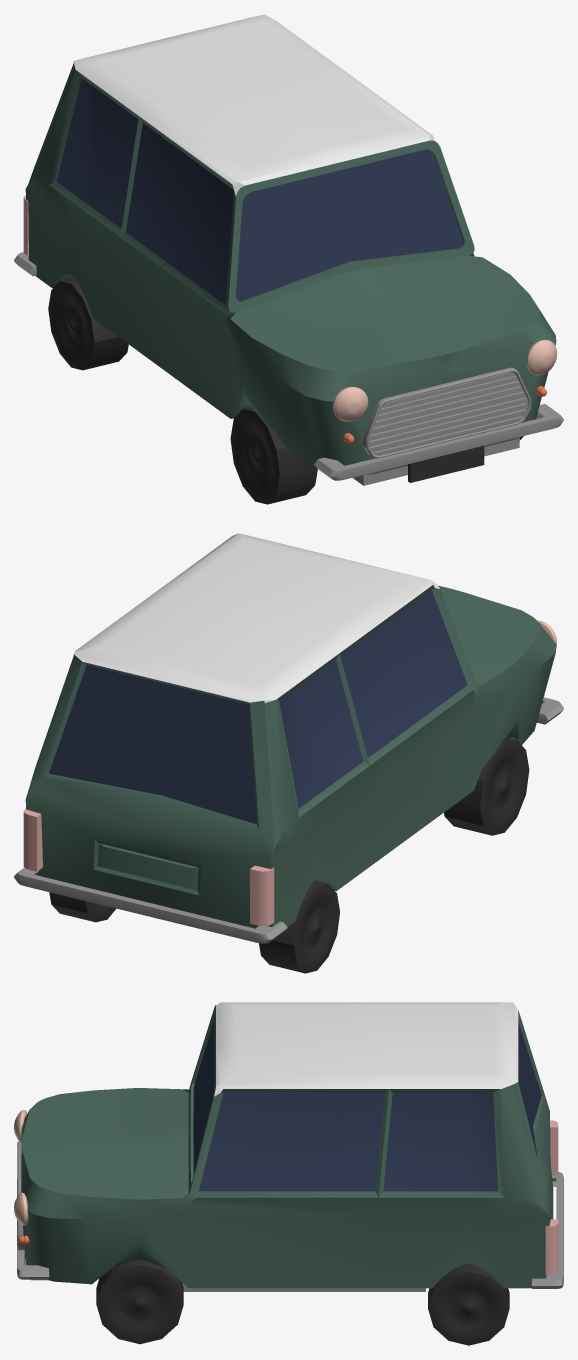
The picture shows the model from 3 angles, top to bottom: view 1: azimuth 30°, elevation 25°; view 2: azimuth 150°, elevation 25°; view 3: azimuth 270°, elevation 25°; orthographic projection. The views are drawn at different scales.
Parts seen in each view (by area): view 1: Cube, Cube.002, Cylinder.002, Cylinder.003, Cube.003, Cylinder, Cube.001, Cube.004, Cube.008; view 2: Cube, Cylinder.003, Cylinder.002, Cube.006, Cube.007; view 3: Cube, Cylinder.002, Cylinder.003, Cube.007, Cube.006, Cube.005, Cylinder, Cube.003, Cube.001.
Part boxes in pixels (x1,y1,x2,y2): Cube: (25,14,556,474); Cube.002: (369,372,528,455); Cylinder.002: (230,407,523,504); Cylinder.003: (48,277,128,370); Cube.003: (314,404,563,480); Cylinder: (332,340,557,421); Cube.001: (362,367,531,458); Cube.004: (408,446,484,482); Cube.008: (353,438,519,485); Cube: (25,533,556,928); Cylinder.003: (49,880,339,973); Cylinder.002: (444,738,529,835); Cube.006: (14,867,287,943); Cube.007: (23,809,274,926); Cube: (21,1002,553,1288); Cylinder.002: (96,1260,183,1344); Cylinder.003: (428,1264,509,1345); Cube.007: (545,1120,558,1274); Cube.006: (531,1172,563,1288); Cube.005: (182,1283,425,1291); Cylinder: (14,1110,28,1225); Cube.003: (17,1179,49,1279); Cube.001: (17,1141,24,1250).
Bounding box in the file's own units: 4.38 × 2.2 × 2.22.
